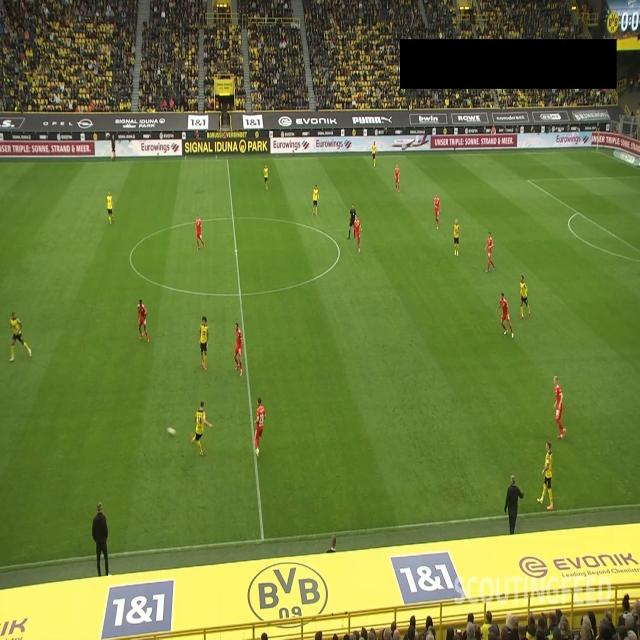ball: (166, 427, 176, 438)
